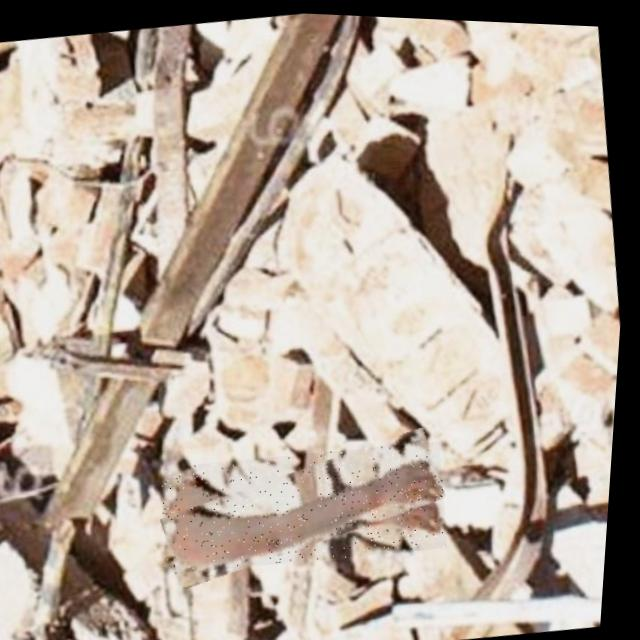Person in Rubble: (160, 426, 460, 581)
